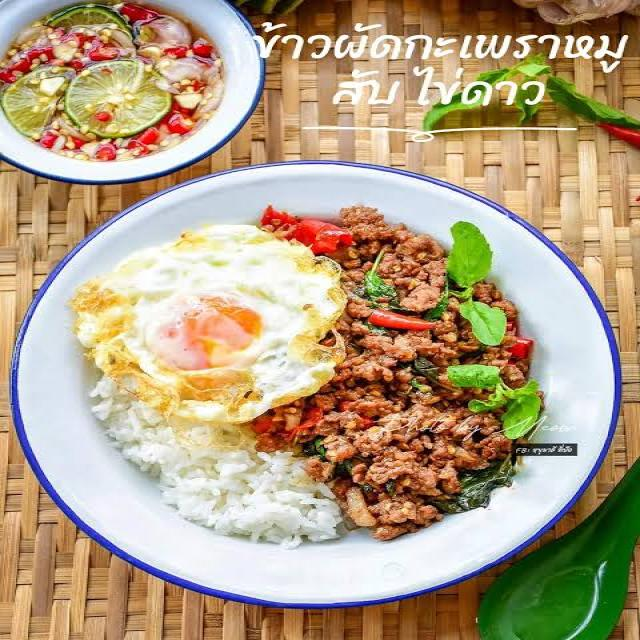basil chicken rice: (0, 160, 550, 561)
carb: (89, 398, 324, 556)
meat: (286, 200, 542, 529)
